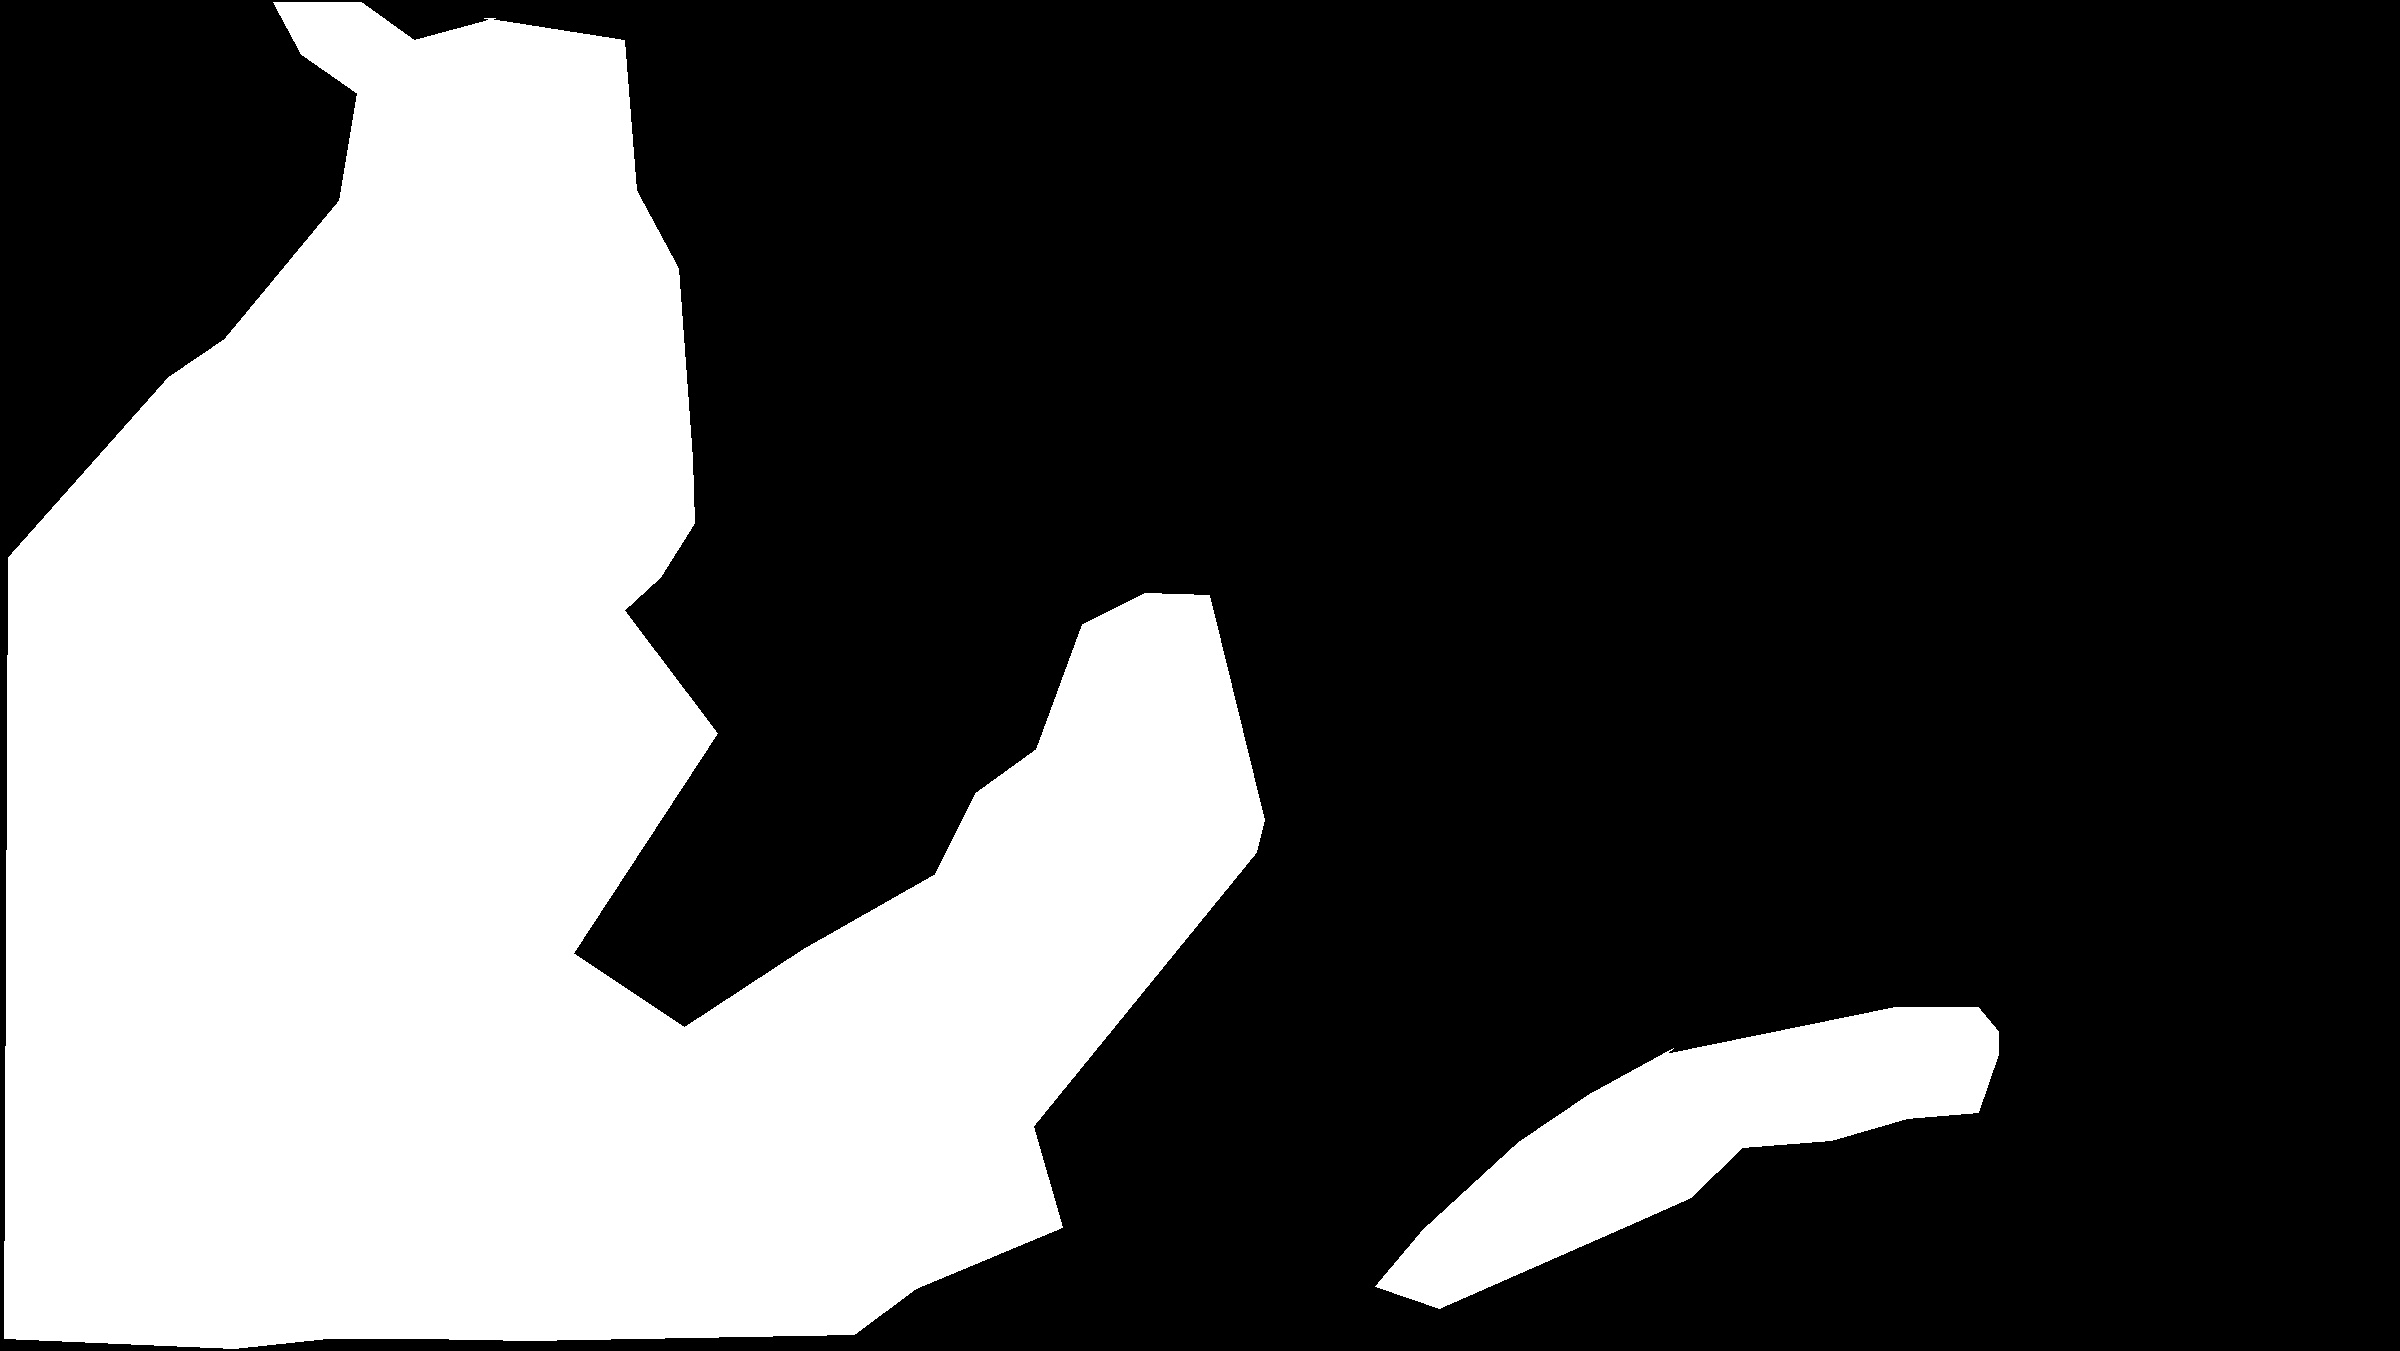fire: (1066, 568, 1287, 847)
